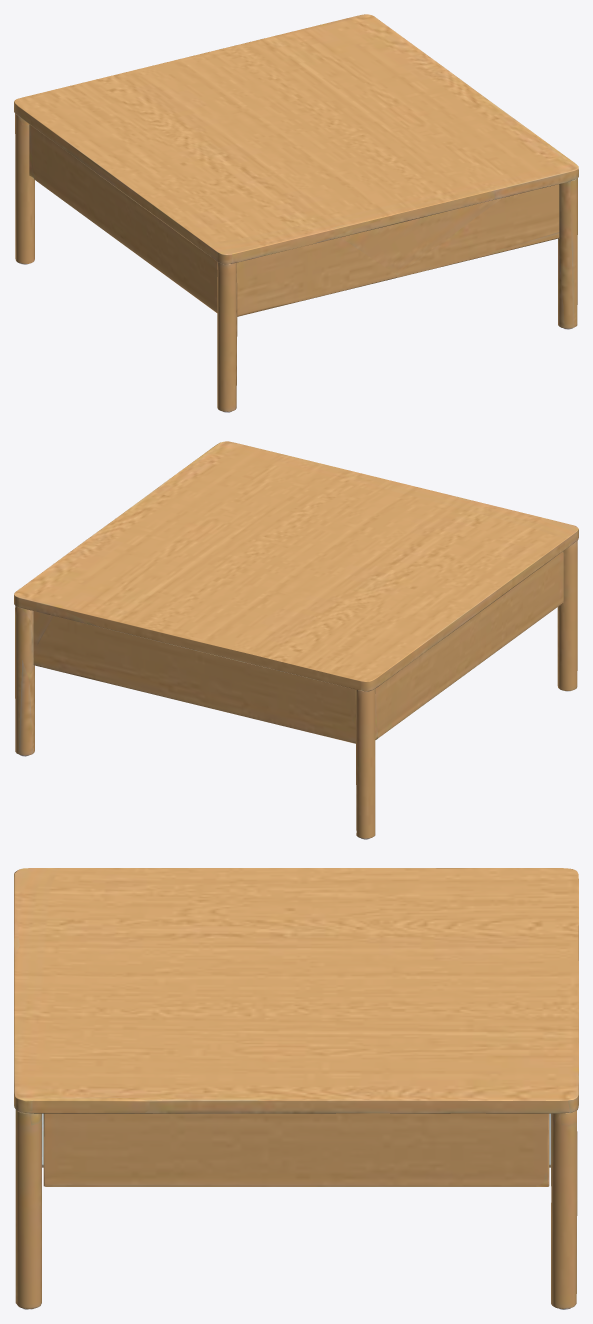
3 renders of one model, top to bottom at view 1: azimuth 30°, elevation 25°; view 2: azimuth 150°, elevation 25°; view 3: azimuth 270°, elevation 25°, orthographic. The views are drawn at different scales.
Visible parts, largest first — view 1: ASY_ART_10489311_S01_NV01; view 2: ASY_ART_10489311_S01_NV01; view 3: ASY_ART_10489311_S01_NV01.
Part boxes in pixels (<box>): ASY_ART_10489311_S01_NV01: <box>14,14,578,412</box>; ASY_ART_10489311_S01_NV01: <box>14,441,578,839</box>; ASY_ART_10489311_S01_NV01: <box>14,868,578,1309</box>.
Bounding box in the file's own units: 0.8212 × 0.3501 × 0.843.
1 material, 1 textured.
